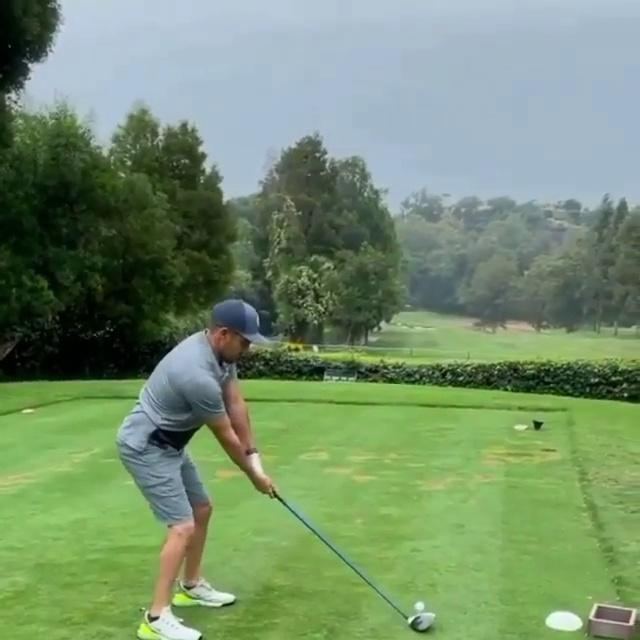ClubHead: (410, 612, 436, 630)
GolfBall: (415, 603, 425, 611)
